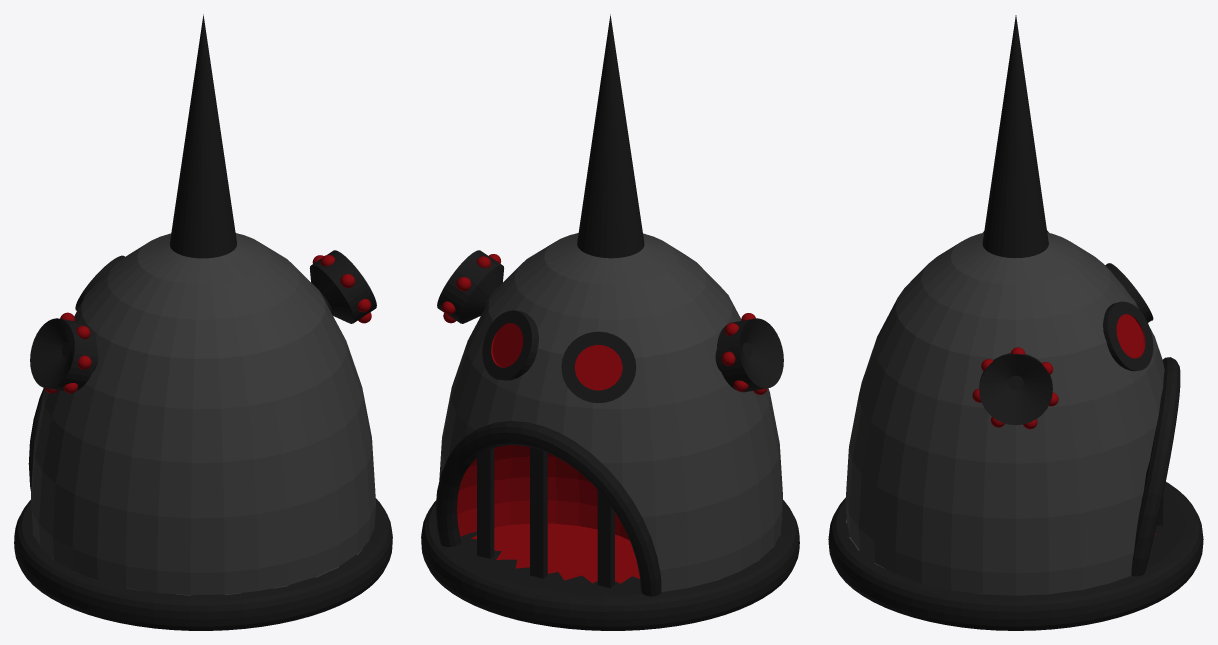
File: wkolce.fbx
3 views of the same model, side by side, from view 1: azimuth 30°, elevation 25°; view 2: azimuth 150°, elevation 25°; view 3: azimuth 270°, elevation 25° (orthographic).
Visible parts, largest first — view 1: Cylinder; view 2: Cylinder; view 3: Cylinder.
Boxes of the visible parts, left/top/right/bottom form: Cylinder: left=14, top=14, right=392, bottom=630; Cylinder: left=421, top=14, right=799, bottom=630; Cylinder: left=828, top=15, right=1203, bottom=630.
Bounding box in the file's own units: 233 × 368 × 230.
